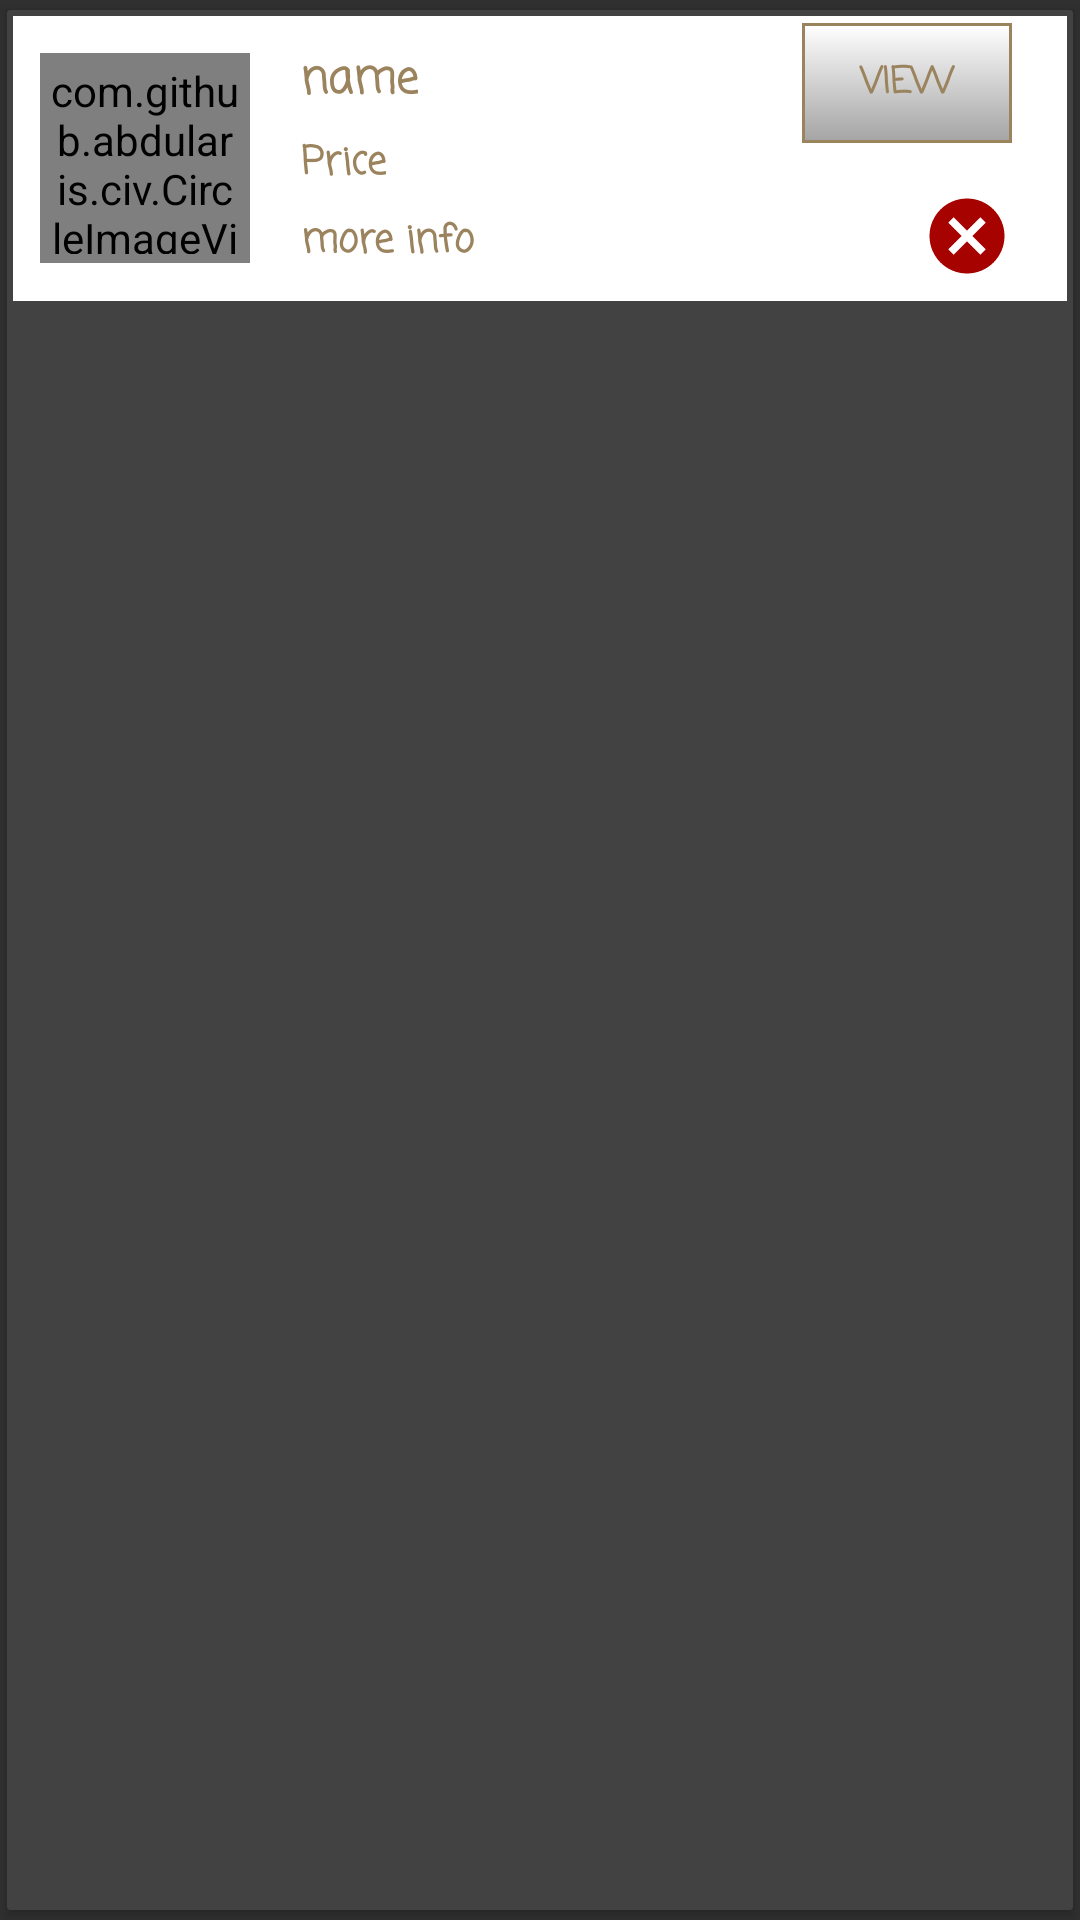

Icons on this 1080px×1920px Android screen, each with the point to tap as (x,y):
cancel: (967,236)
